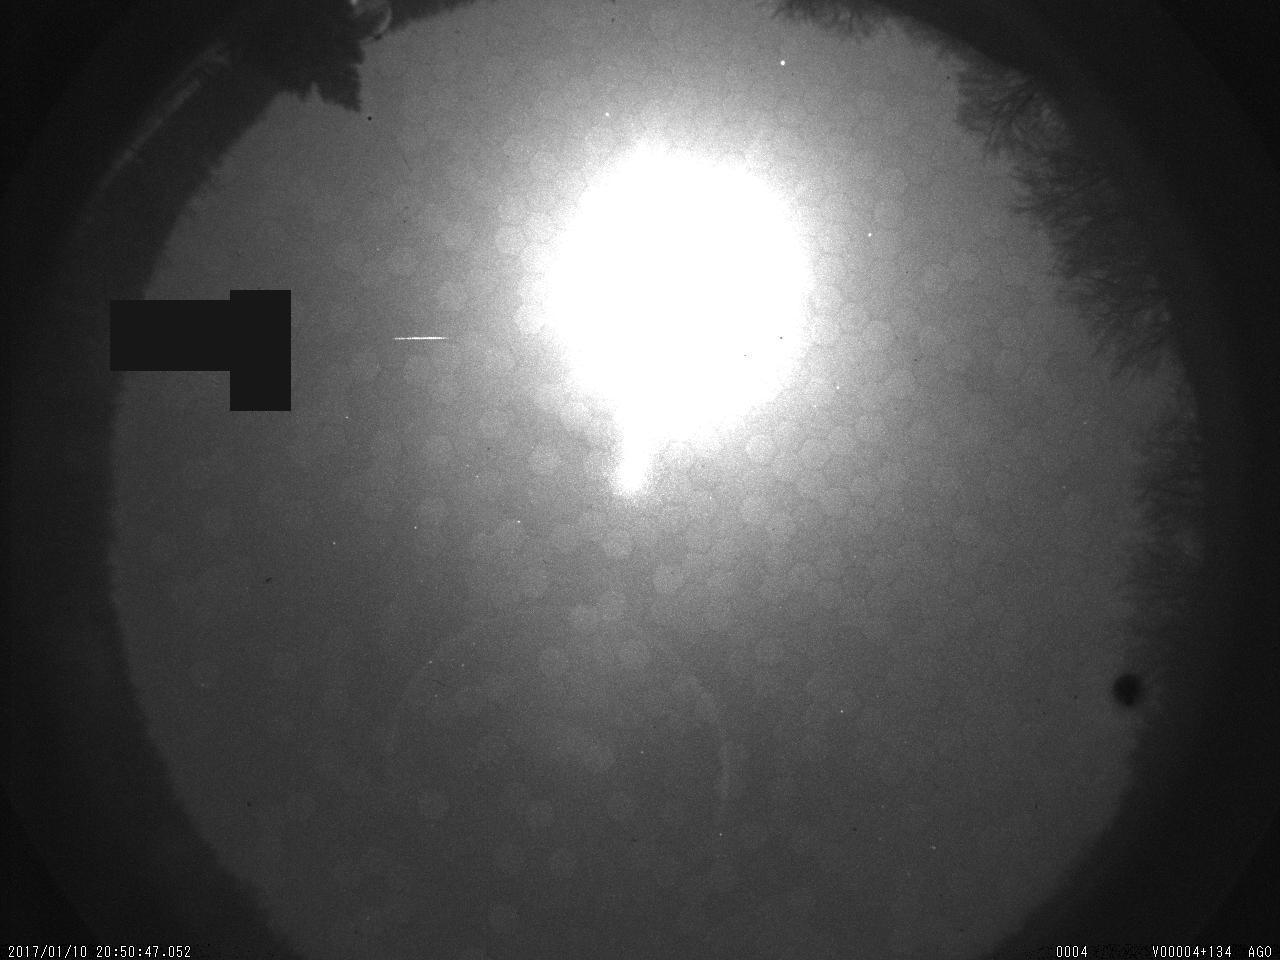meteor: (396, 324, 456, 352)
